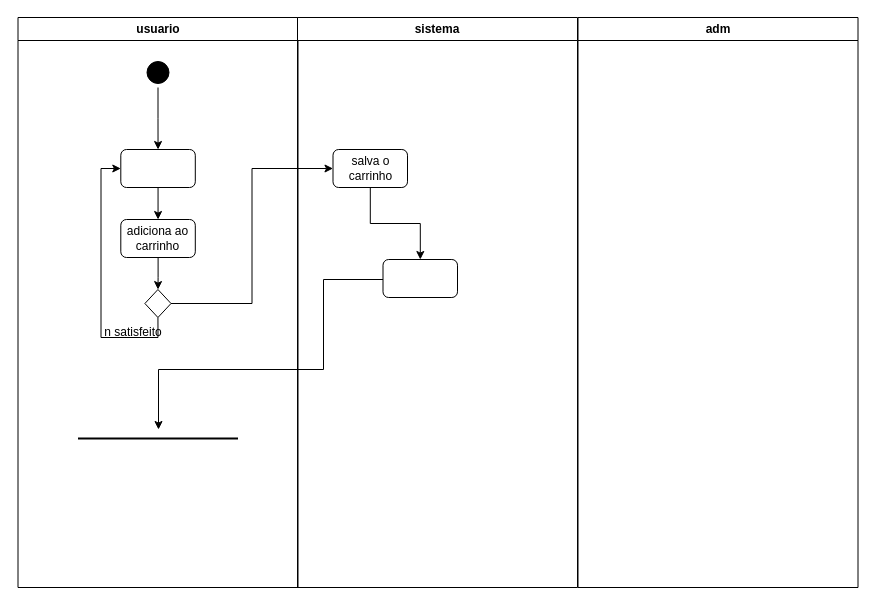
Image size: 875x605. Some labels were removed from this diagram. Here are the shapes that lost their labels. From the top down, the box of each, then its label:
(120, 148, 195, 188): pesquisa item
(382, 258, 458, 298): processa a compra
